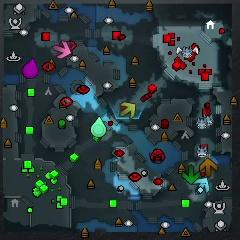p2: (90, 116, 107, 138)
p3: (22, 58, 40, 81)
x1: (53, 41, 72, 60)
x2: (118, 101, 136, 117)
x3: (195, 177, 209, 196)
x4: (183, 165, 200, 185)
x5: (200, 158, 217, 178)
